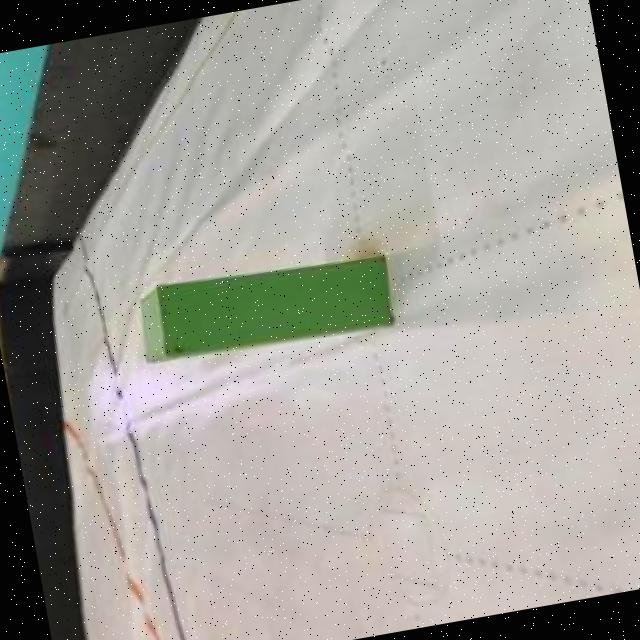greenbox: (127, 242, 396, 370)
